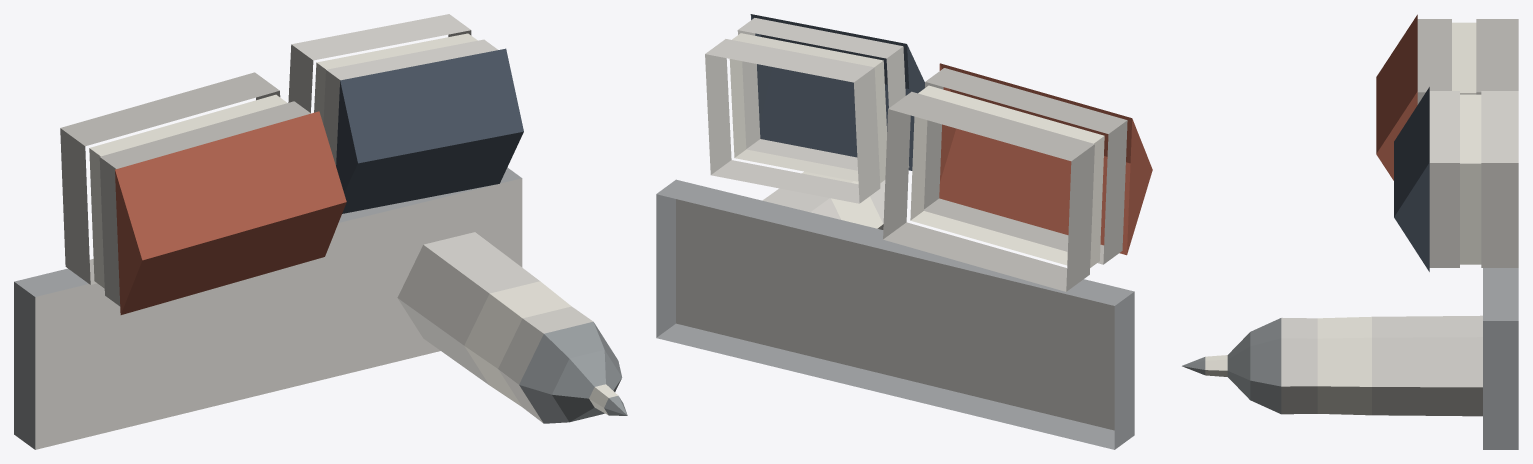
File: port_harbor.obj
3 renders of one model, left to right at view 1: azimuth 30°, elevation 25°; view 2: azimuth 150°, elevation 25°; view 3: azimuth 270°, elevation 25°, orthographic. The views are drawn at different scales.
Parts seen in each view (by area): view 1: port_harbor; view 2: port_harbor; view 3: port_harbor.
Boxes of the visible parts, bbox=[...] form: port_harbor: bbox=[14, 14, 627, 449]; port_harbor: bbox=[656, 14, 1152, 449]; port_harbor: bbox=[1182, 14, 1518, 449].
Size of the model in its own units: 0.8 by 0.5117 by 0.5683.
